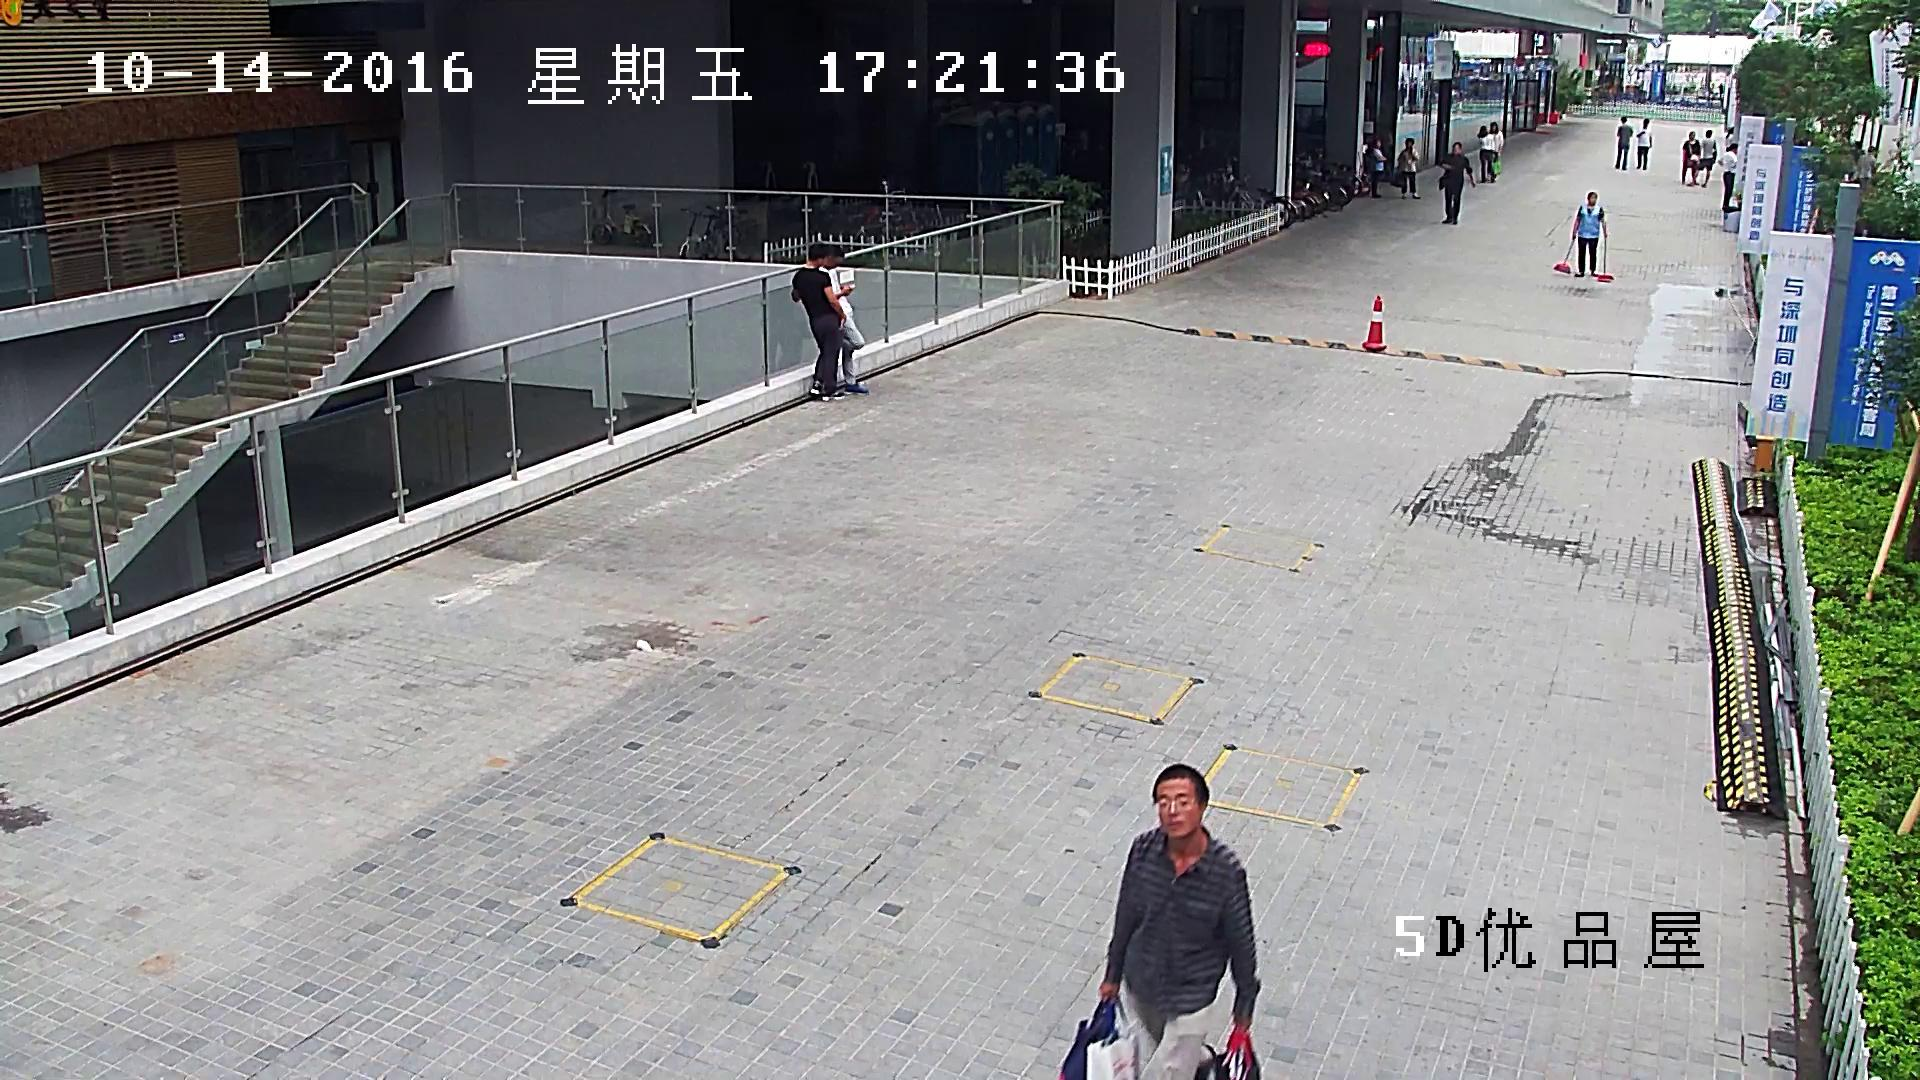person: (1058, 764, 1259, 1080), (1099, 766, 1259, 1080), (791, 243, 846, 400), (819, 245, 868, 394), (1553, 191, 1613, 281), (1571, 192, 1607, 276), (1438, 141, 1474, 224), (1687, 129, 1716, 187), (1396, 138, 1422, 199), (1477, 126, 1502, 183), (1367, 138, 1387, 198), (1723, 143, 1738, 212), (1615, 116, 1634, 170), (1682, 131, 1701, 185), (1636, 118, 1652, 170), (1856, 146, 1877, 186), (1489, 121, 1503, 160)
